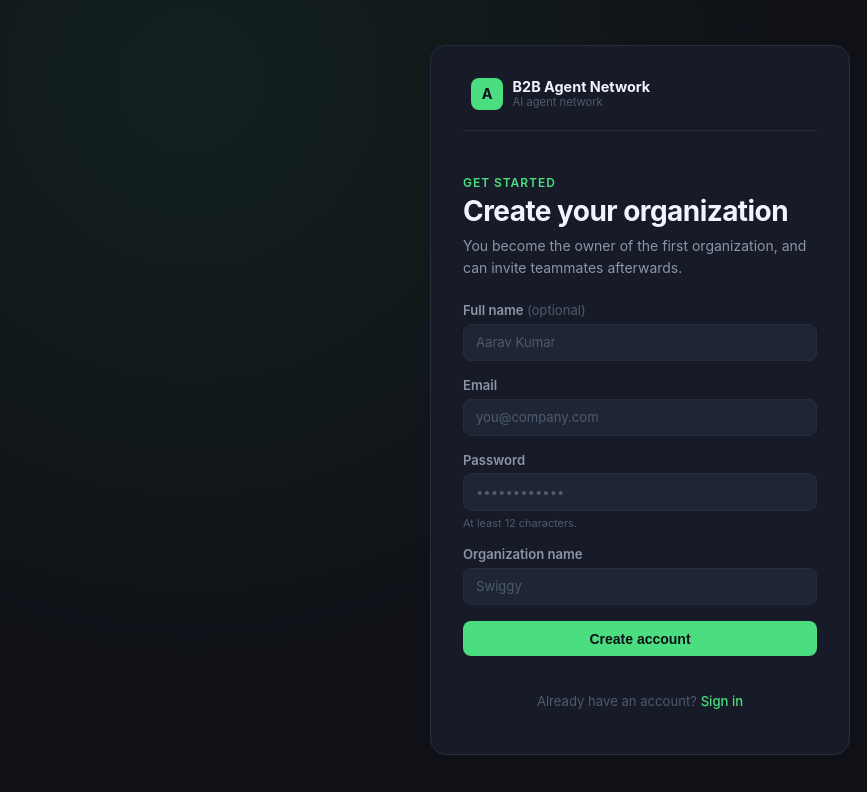
Test case: authentication flow › requires a valid password before registering
The width and height of the screenshot is (867, 792).
Type "new@example.test" into the field labelled "Email" at [640, 417], box x1=463 y1=399 x2=817 y2=436
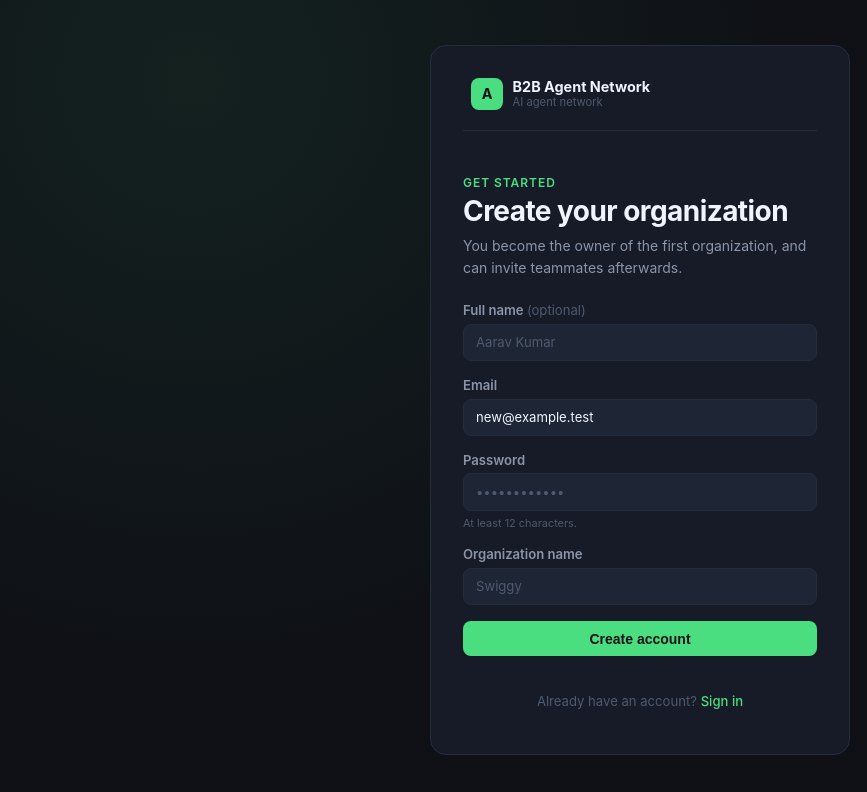
Type "short" into the password field labelled "Password At least 12 characters." at [640, 492], box x1=463 y1=473 x2=817 y2=511
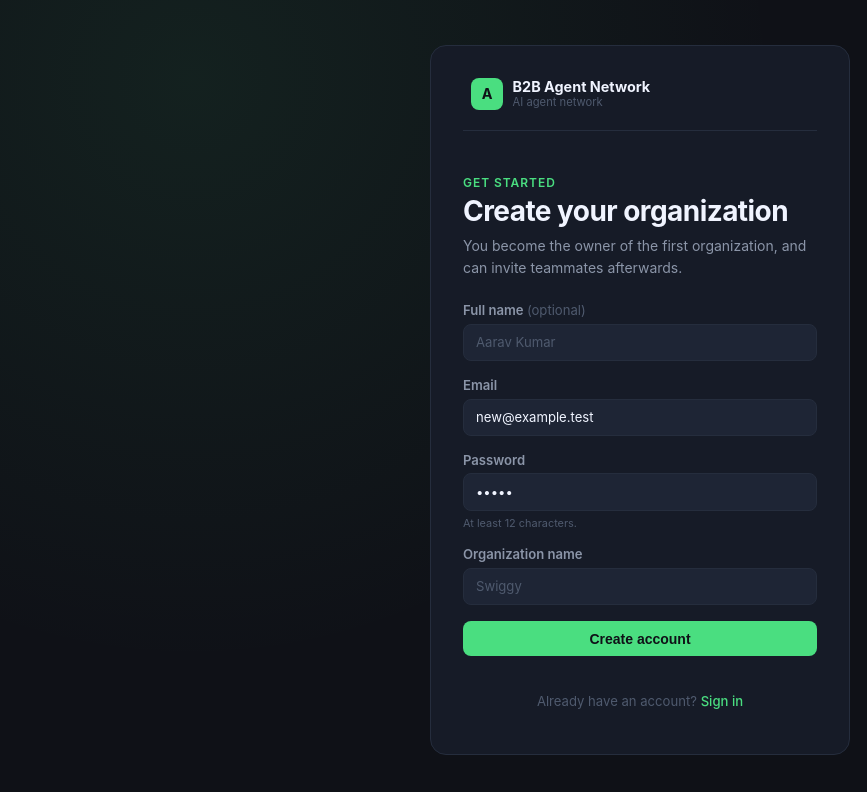
Type "New Co" into the field labelled "Organization name" at [640, 586], box x1=463 y1=568 x2=817 y2=605
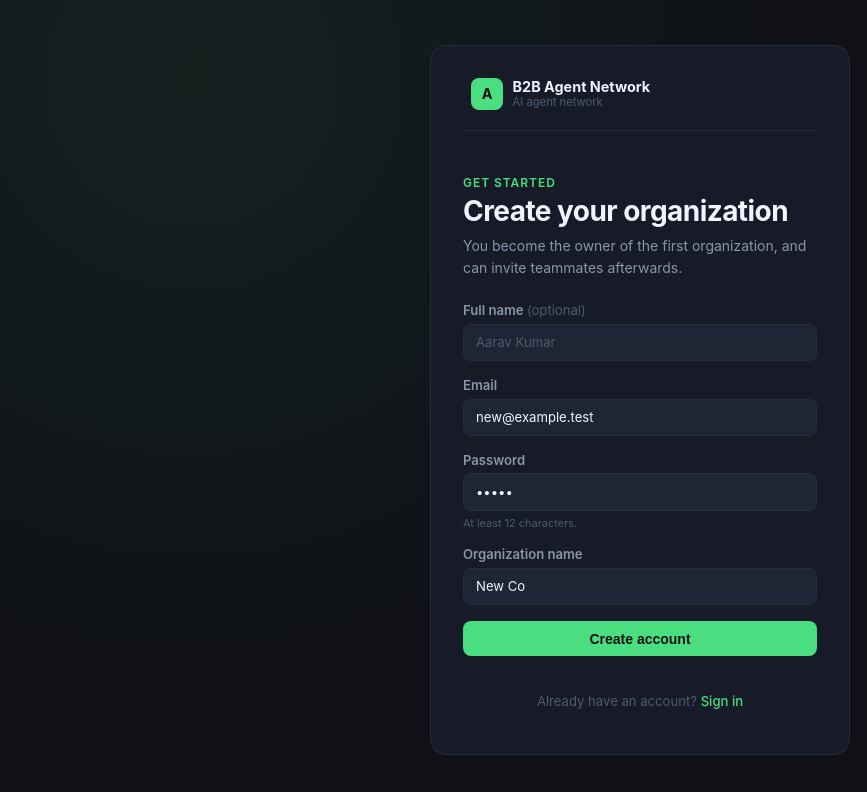
Click the button "Create account" at [640, 638], box x1=463 y1=621 x2=817 y2=656
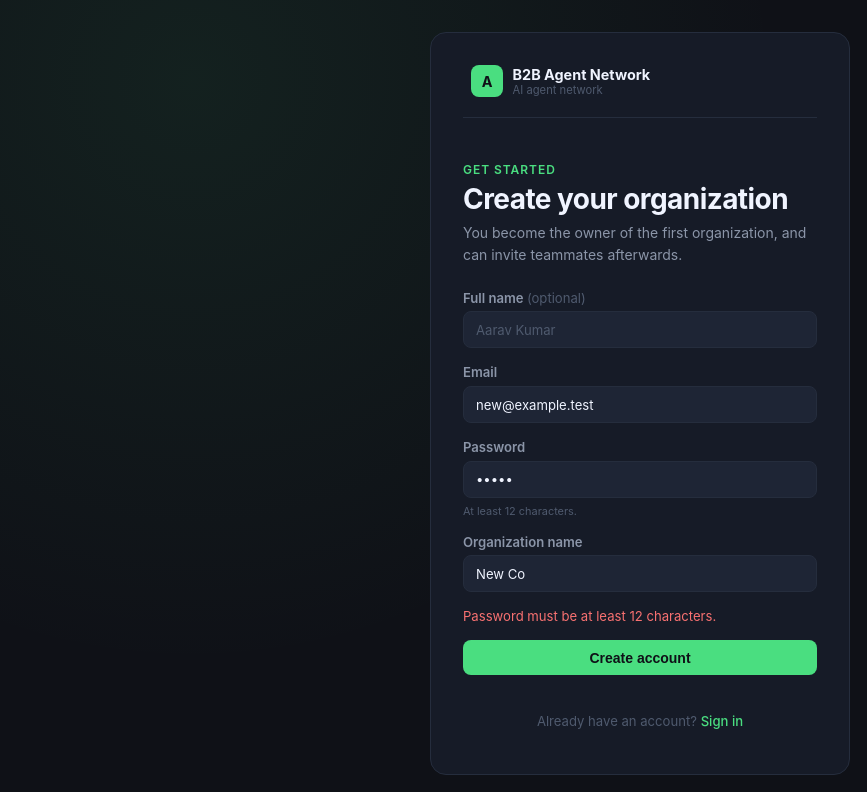
expect the message reads "Password must be at least 12 characters.": met, box x1=463 y1=608 x2=716 y2=624
